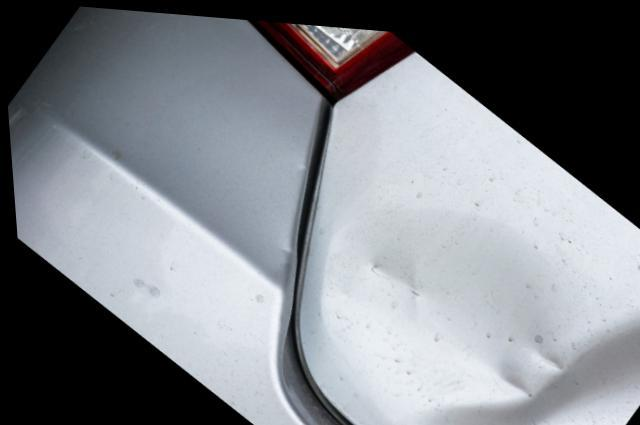dent: (314, 192, 565, 414), (402, 296, 640, 425)
